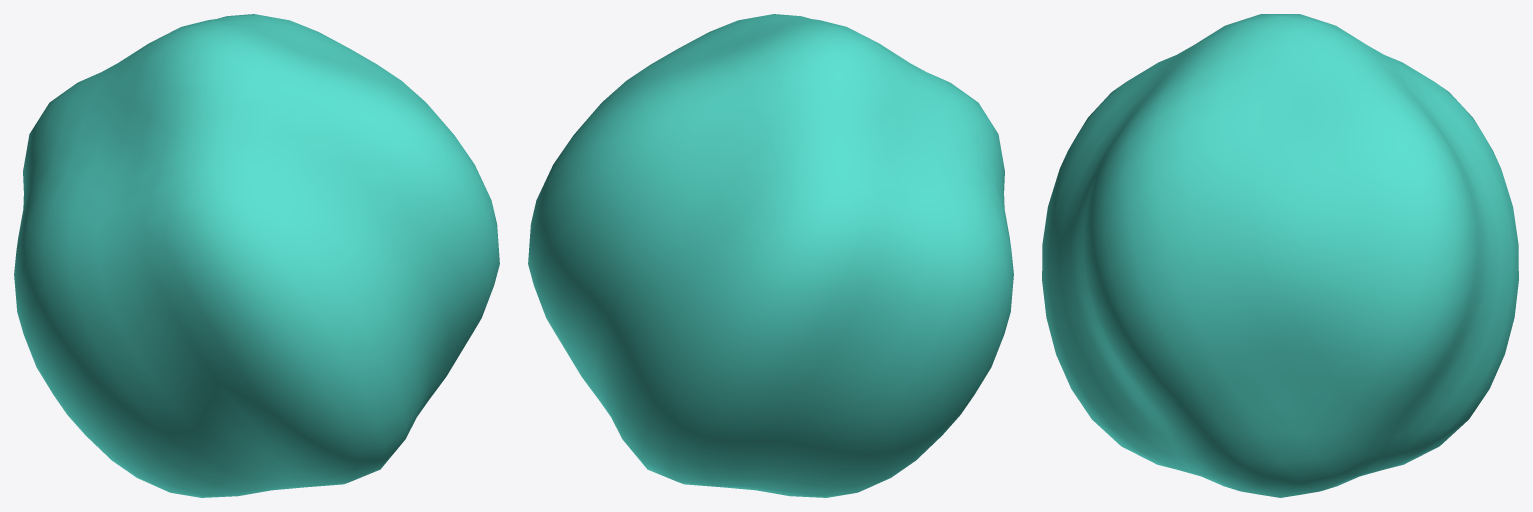
Rendered from hydro.glb.
3 views of the same model, side by side, from view 1: azimuth 30°, elevation 25°; view 2: azimuth 150°, elevation 25°; view 3: azimuth 270°, elevation 25° (orthographic). The views are drawn at different scales.
Parts seen in each view (by area): view 1: hydro_core; view 2: hydro_core; view 3: hydro_core.
Part boxes in pixels (bbox=[...]): hydro_core: bbox=[14, 14, 499, 497]; hydro_core: bbox=[528, 14, 1013, 497]; hydro_core: bbox=[1042, 14, 1518, 497].
Bounding box in the file's own units: 2.5 × 2.61 × 2.57.
